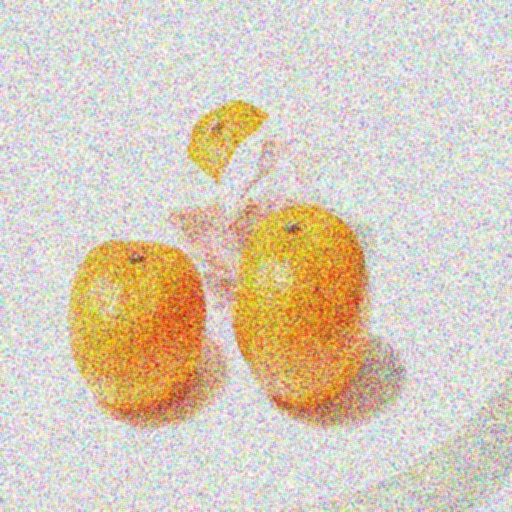fruit: (49, 158, 362, 512), (292, 160, 444, 512), (143, 54, 395, 182)
